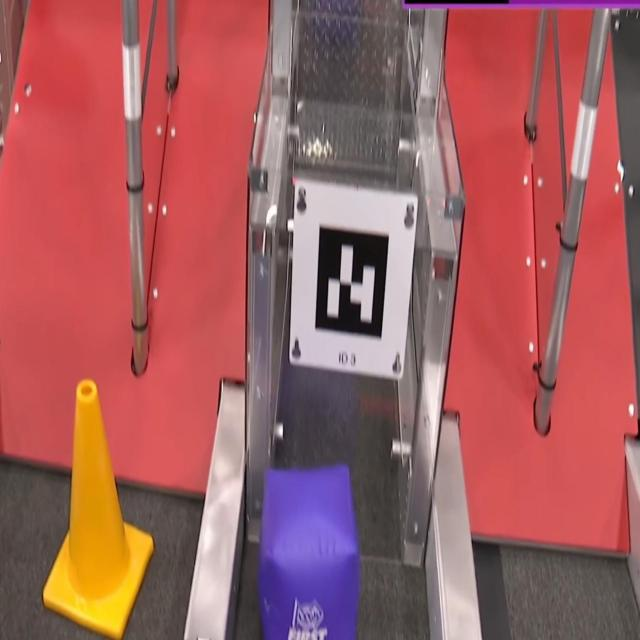frc_cone: (41, 377, 162, 640)
frc_cube: (257, 461, 360, 640)
